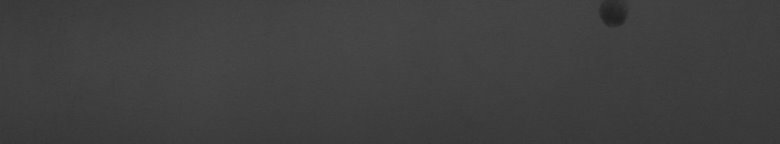fi: (596, 4, 628, 32)
